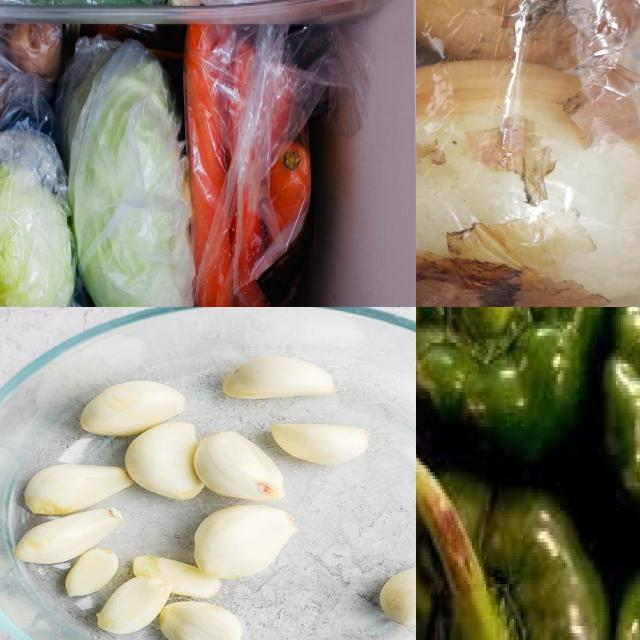bell_pepper: (417, 462, 603, 640), (417, 308, 600, 472)
carrot: (186, 23, 237, 308), (273, 144, 309, 242)
garlic: (11, 361, 370, 640), (377, 563, 417, 628)
onion: (417, 58, 640, 308), (417, 1, 640, 67)
